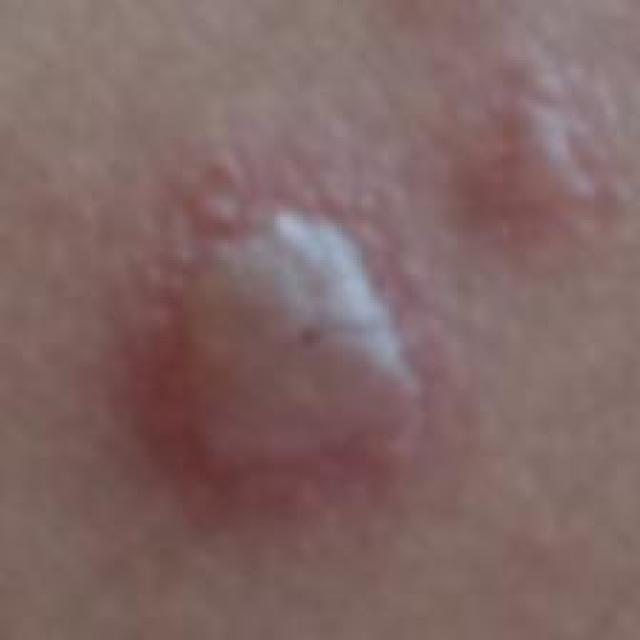others: (95, 84, 557, 571)
